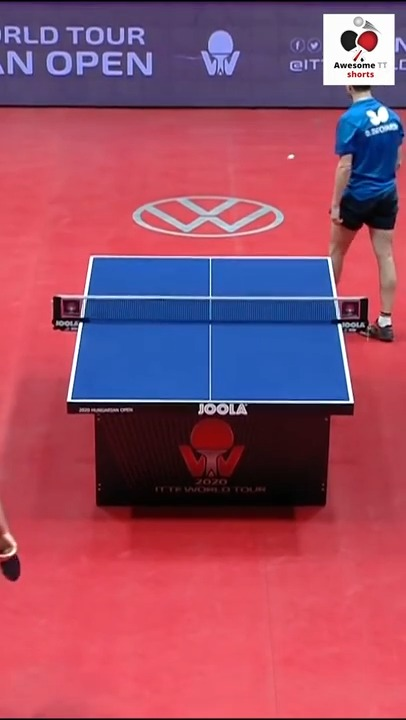Ball: (287, 151, 294, 158)
